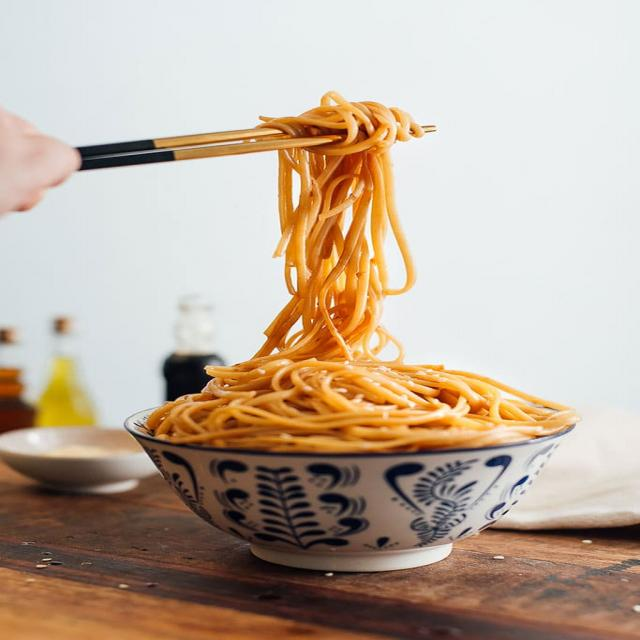noodle: (146, 83, 584, 454)
